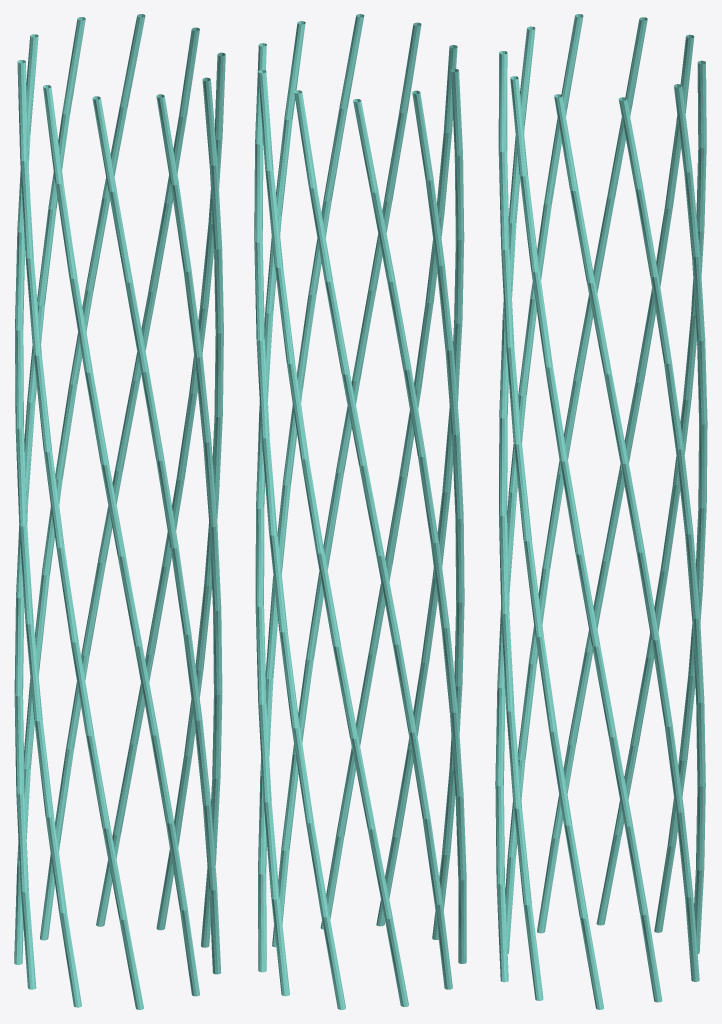
3 renders of one model, left to right at view 1: azimuth 30°, elevation 25°; view 2: azimuth 150°, elevation 25°; view 3: azimuth 270°, elevation 25°, orthographic.
Visible parts, largest first — view 1: Cylinder002; view 2: Cylinder002; view 3: Cylinder002.
Boxes of the visible parts, x1=… form: Cylinder002: x1=14, y1=14, x2=225, y2=1009; Cylinder002: x1=254, y1=14, x2=466, y2=1009; Cylinder002: x1=495, y1=14, x2=707, y2=1009.
Bounding box in the file's own units: 21102 × 100000 × 21122.
